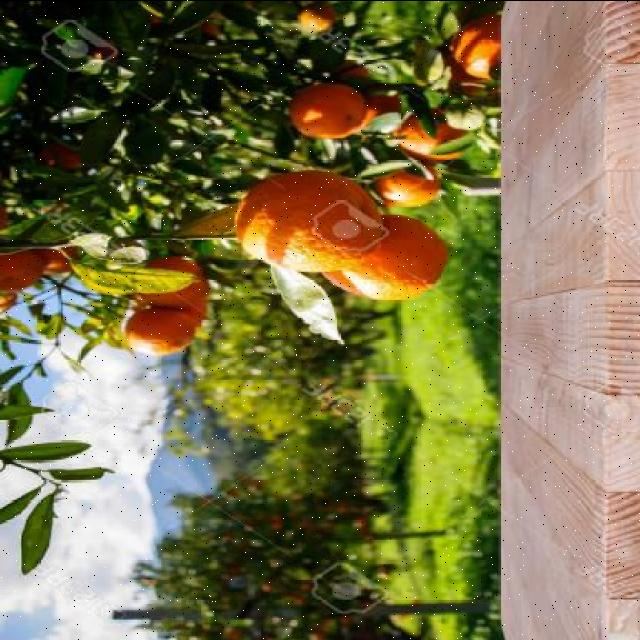Orange: (232, 170, 386, 274), (342, 214, 448, 303), (288, 83, 366, 140), (132, 257, 208, 309), (123, 308, 195, 357), (449, 14, 500, 82), (374, 170, 440, 208), (296, 1, 336, 34)
